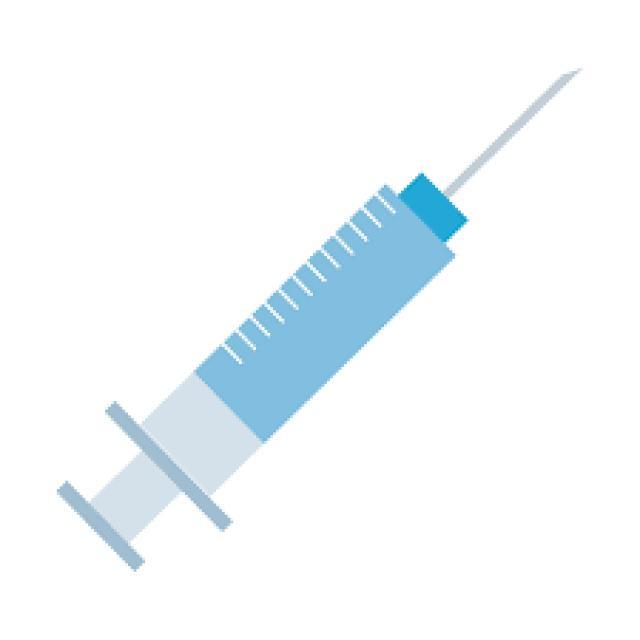syringe: (63, 67, 547, 609)
